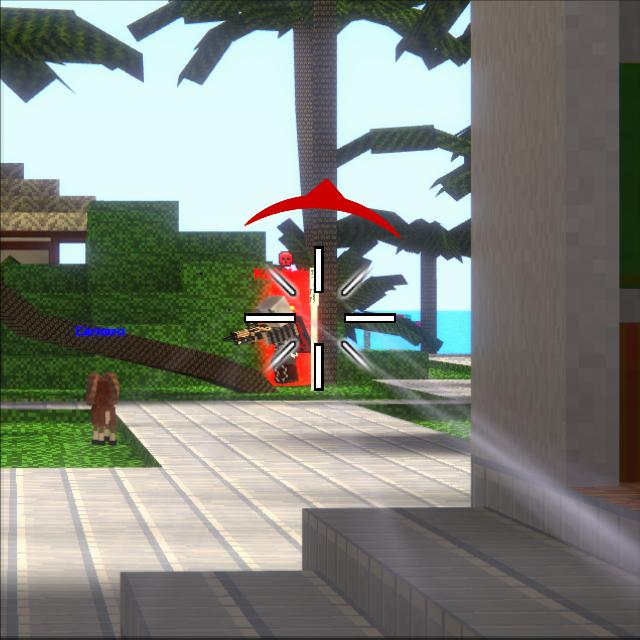Enemy: (258, 295, 309, 385)
